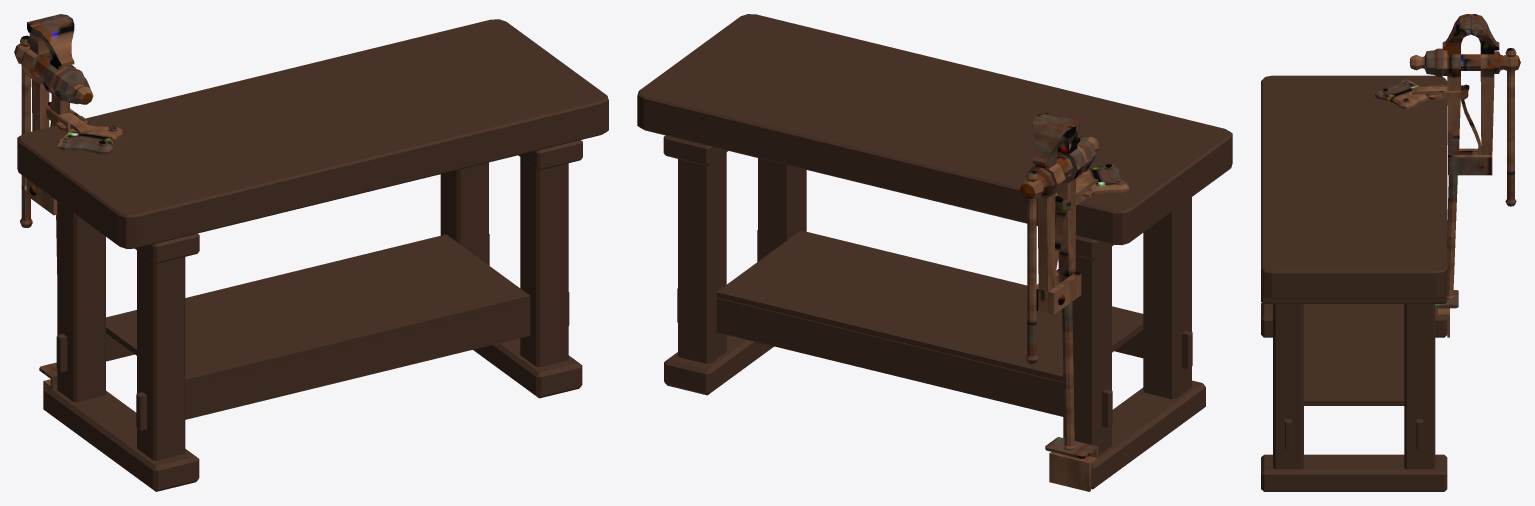
The model's file is gunbench.glb.
3 renders of one model, left to right at view 1: azimuth 30°, elevation 25°; view 2: azimuth 150°, elevation 25°; view 3: azimuth 270°, elevation 25°, orthographic. The views are drawn at different scales.
Parts seen in each view (by area): view 1: Jaw1; view 2: Jaw1; view 3: Jaw1.
Boxes of the visible parts, box(x1,y1,x2,y2) form: Jaw1: box(14, 14, 608, 491); Jaw1: box(637, 14, 1232, 491); Jaw1: box(1261, 14, 1520, 491).
Size of the model in its own units: 1.5 by 1.09 by 0.8368.
1 material, 1 textured.
